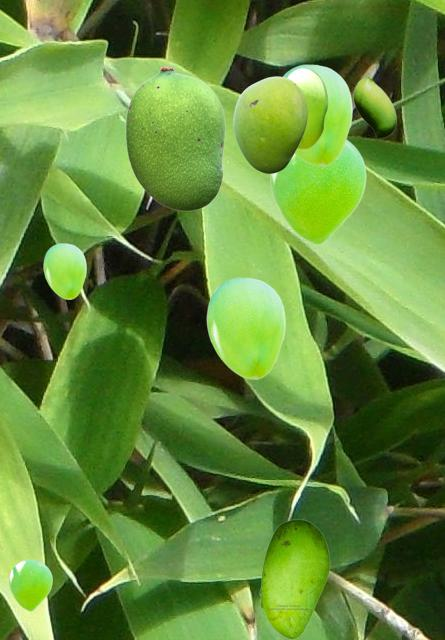green_mango: (125, 65, 224, 210), (270, 139, 365, 244), (259, 519, 329, 638), (206, 277, 284, 378), (233, 76, 306, 172), (283, 64, 351, 165), (287, 67, 327, 148), (353, 76, 395, 137), (43, 243, 85, 298), (9, 559, 51, 610)
